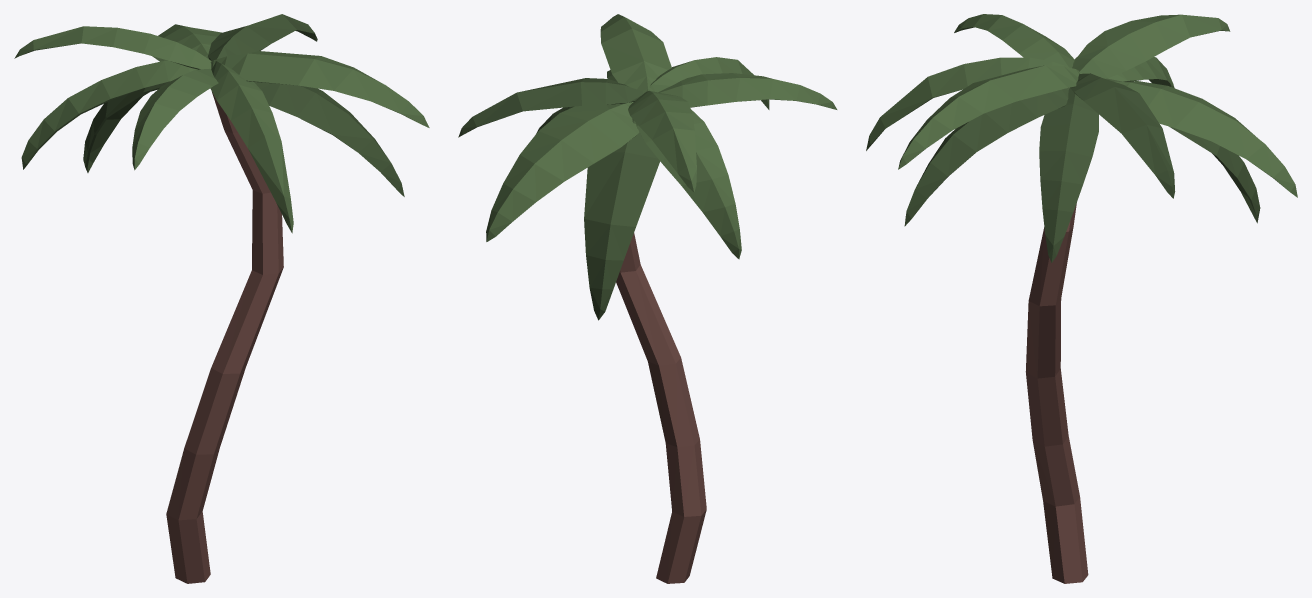
The model's file is veg-palma-a.glb.
The picture shows the model from 3 angles, left to right: view 1: azimuth 30°, elevation 25°; view 2: azimuth 150°, elevation 25°; view 3: azimuth 270°, elevation 25°; orthographic projection. The views are drawn at different scales.
Visible parts, largest first — view 1: PalmTree_3; view 2: PalmTree_3; view 3: PalmTree_3.
Boxes of the visible parts, x1,y1,x2,y2 form: PalmTree_3: [14, 14, 429, 583]; PalmTree_3: [458, 14, 837, 583]; PalmTree_3: [866, 14, 1297, 583].
Bounding box in the file's own units: 1.31 × 2.23 × 1.62.
